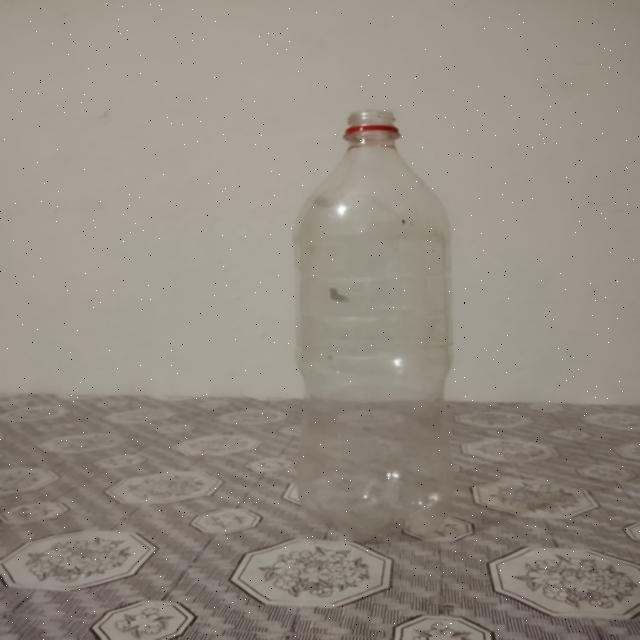bottle: (292, 108, 468, 538)
